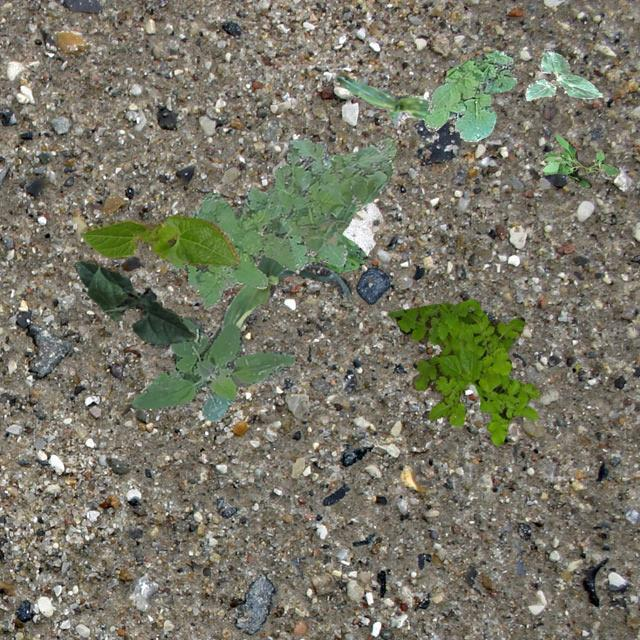crop: (74, 260, 194, 346), (219, 254, 351, 328), (80, 214, 238, 266), (336, 74, 454, 126), (524, 49, 602, 100)
weed: (172, 136, 396, 310), (387, 298, 537, 444), (130, 314, 296, 420), (424, 50, 516, 140), (540, 132, 618, 188), (306, 234, 366, 272)
